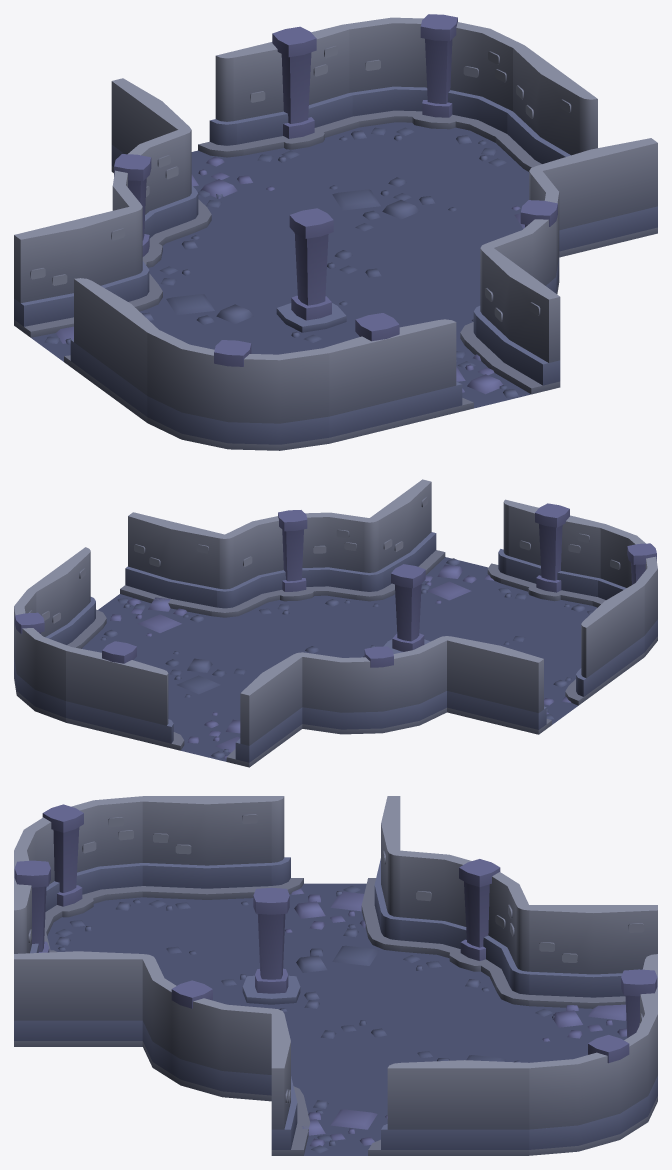
File: room-large-variation.fbx
The picture shows the model from 3 angles, top to bottom: view 1: azimuth 30°, elevation 25°; view 2: azimuth 150°, elevation 25°; view 3: azimuth 270°, elevation 25°; orthographic projection. The views are drawn at different scales.
Parts seen in each view (by area): view 1: room-large-variation; view 2: room-large-variation; view 3: room-large-variation.
Part boxes in pixels (x1=…): room-large-variation: x1=14, y1=14, x2=657, y2=450; room-large-variation: x1=14, y1=479, x2=657, y2=767; room-large-variation: x1=14, y1=796, x2=657, y2=1155.
Size of the model in its own units: 2000 by 333 by 2000.
1 material, 1 textured.
